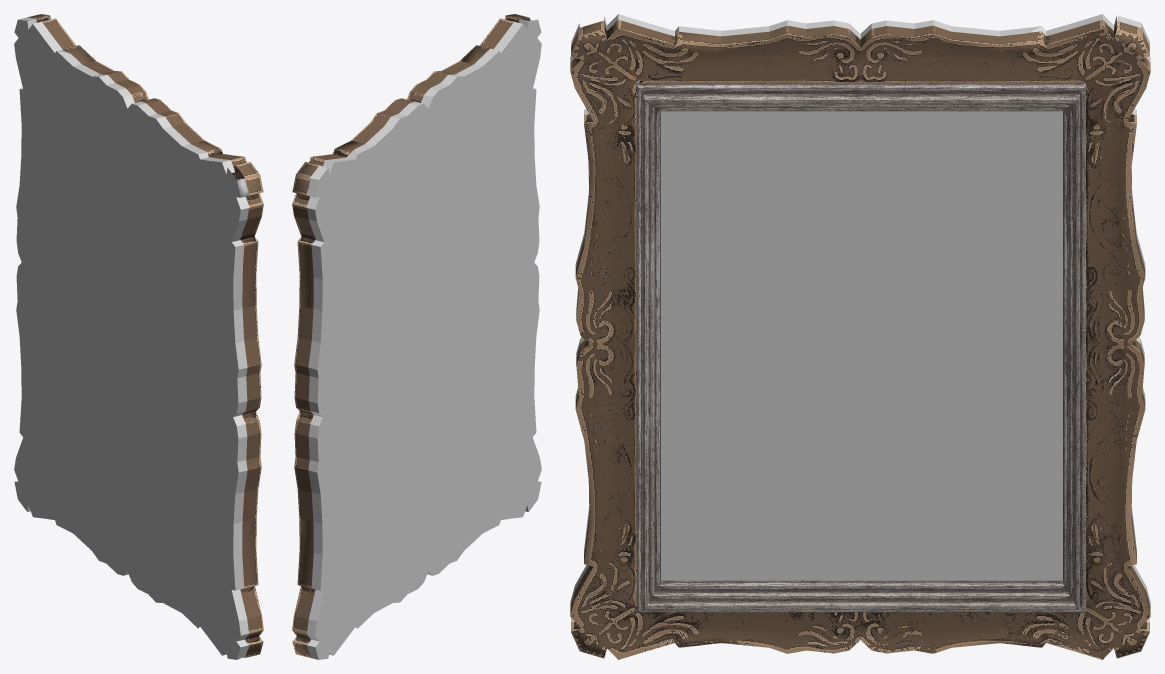
The model's file is frame.glb.
The picture shows the model from 3 angles, left to right: view 1: azimuth 30°, elevation 25°; view 2: azimuth 150°, elevation 25°; view 3: azimuth 270°, elevation 25°; orthographic projection. The views are drawn at different scales.
Visible parts, largest first — view 1: Cube.001, g; view 2: Cube.001, g; view 3: Cube.001, g.
Boxes of the visible parts, x1=… form: Cube.001: x1=14, y1=17, x2=249, y2=659; g: x1=27, y1=14, x2=263, y2=657; Cube.001: x1=306, y1=19, x2=541, y2=659; g: x1=292, y1=14, x2=530, y2=657; Cube.001: x1=570, y1=14, x2=1150, y2=622; g: x1=570, y1=19, x2=1150, y2=659.
Bounding box in the file's own units: 0.1515 × 2 × 1.67.
Materials: 1 (1 with a texture image).
